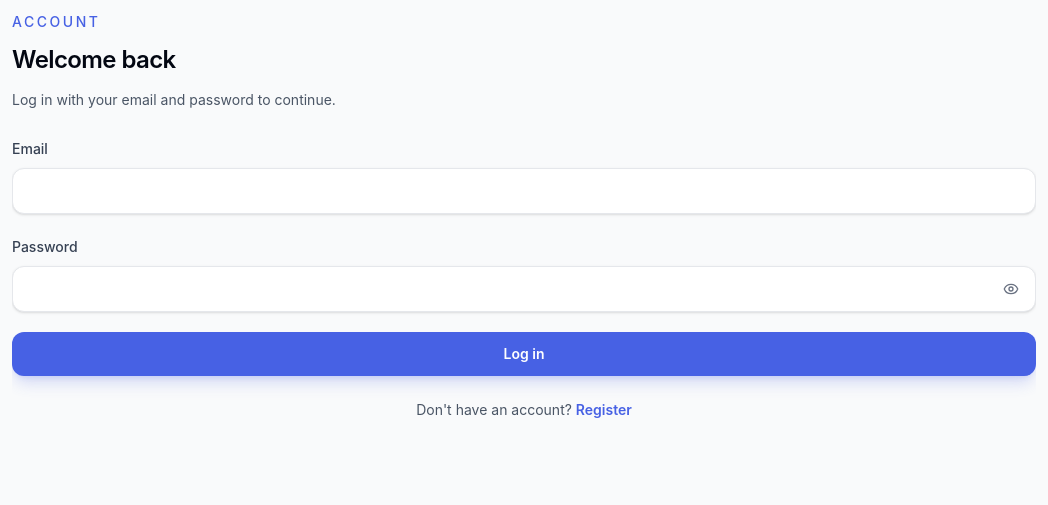
LoginPage › shows an error message when login fails
Type "demo@example.test" into the field labelled "Email".
click(524, 191); type("demo@example.test")  # box [12,168,1036,214]
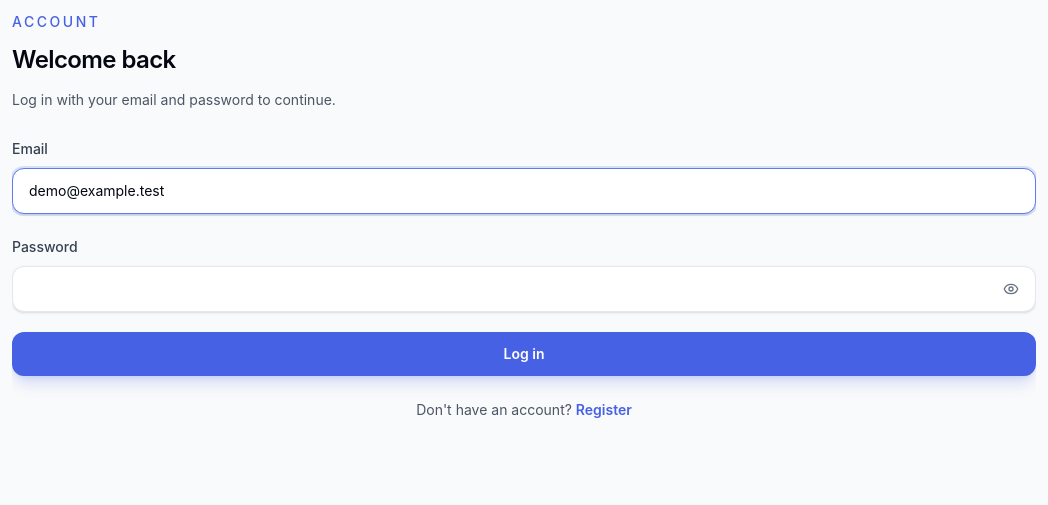
Type "WrongPassword123" into the password field labelled "Password".
click(500, 289); type("WrongPassword123")  # box [13,267,987,311]
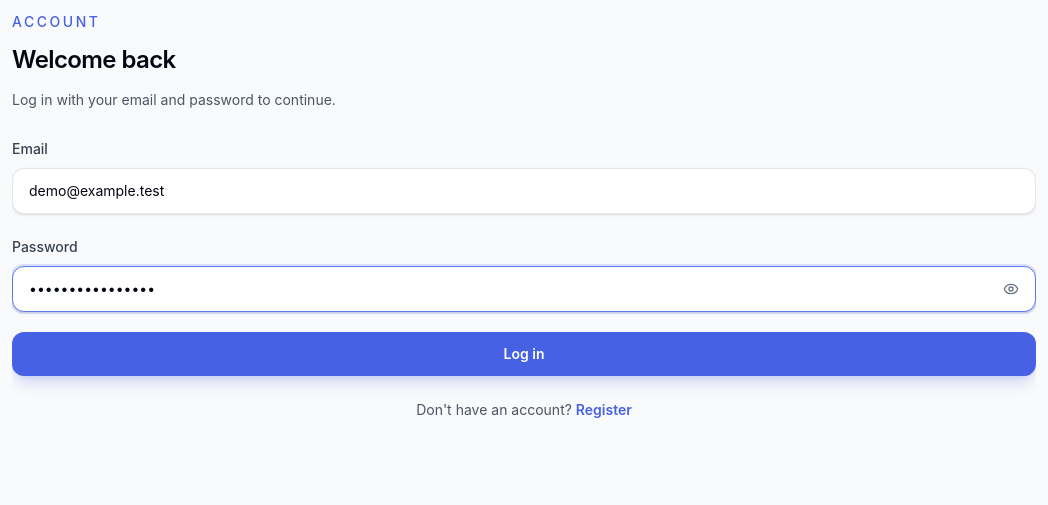
Click the button "Log in".
click(524, 354)  # box [12,332,1036,376]
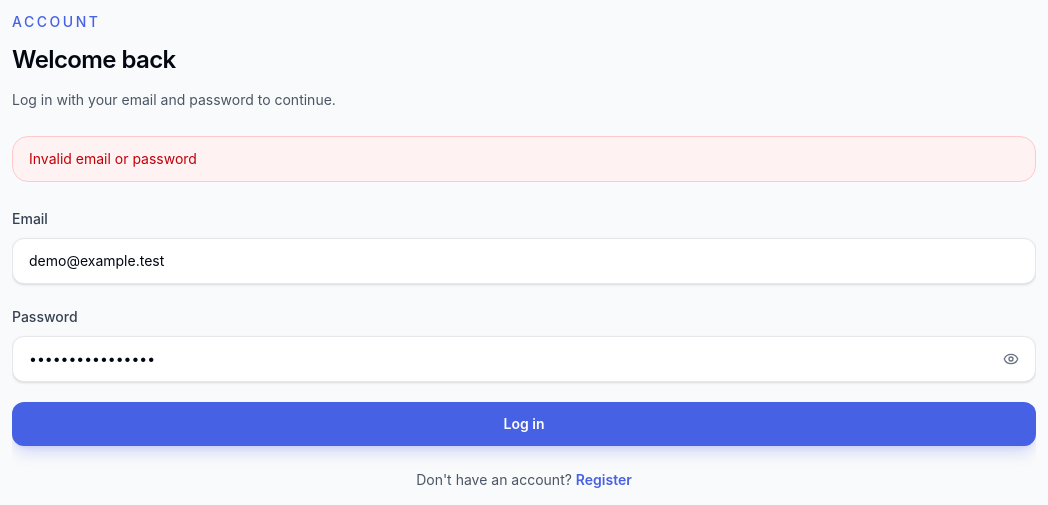
Now the text "Invalid email or password" is shown, box [12,136,1036,182]
